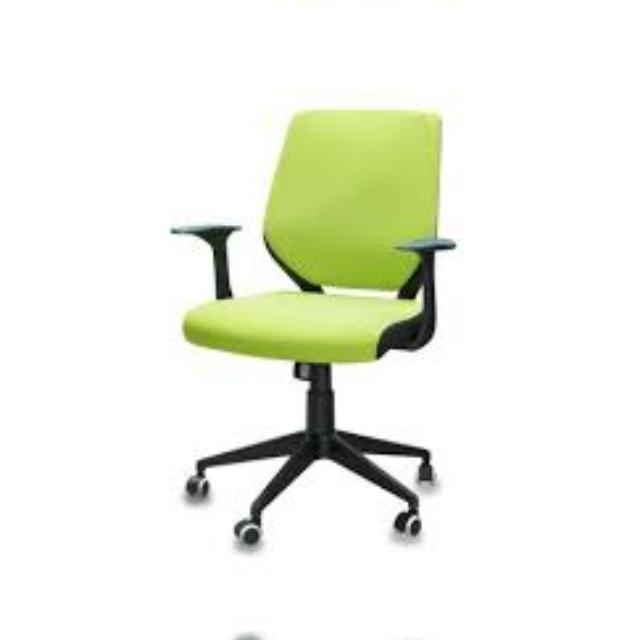obstacle: (150, 94, 520, 578), (149, 608, 520, 640)
